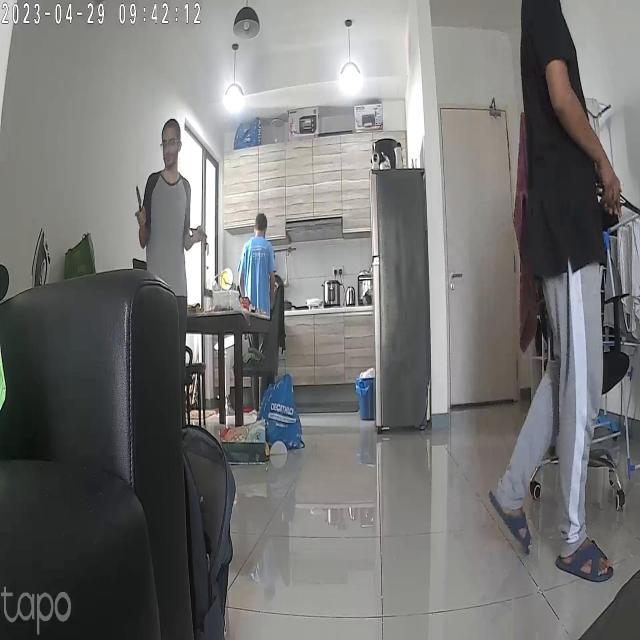Knife: (128, 181, 152, 221)
